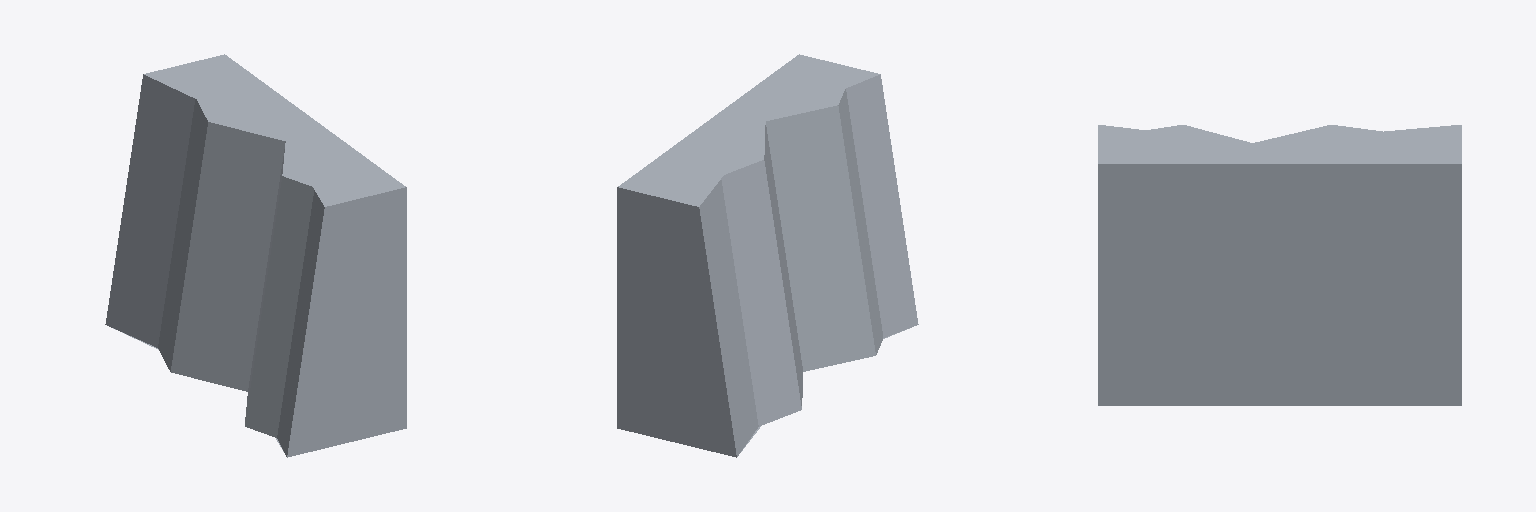
3 views of the same model, side by side, from view 1: azimuth 30°, elevation 25°; view 2: azimuth 150°, elevation 25°; view 3: azimuth 270°, elevation 25° (orthographic).
Parts seen in each view (by area): view 1: Mesh1 Grey_Cliff_Bottom Model; view 2: Mesh1 Grey_Cliff_Bottom Model; view 3: Mesh1 Grey_Cliff_Bottom Model.
Boxes of the visible parts, x1,y1,x2,y2 form: Mesh1 Grey_Cliff_Bottom Model: [105, 54, 406, 457]; Mesh1 Grey_Cliff_Bottom Model: [617, 54, 918, 457]; Mesh1 Grey_Cliff_Bottom Model: [1098, 125, 1461, 405].
Bounding box in the file's own units: 1.14 × 2.2 × 3.
Materials: 1 (1 with a texture image).